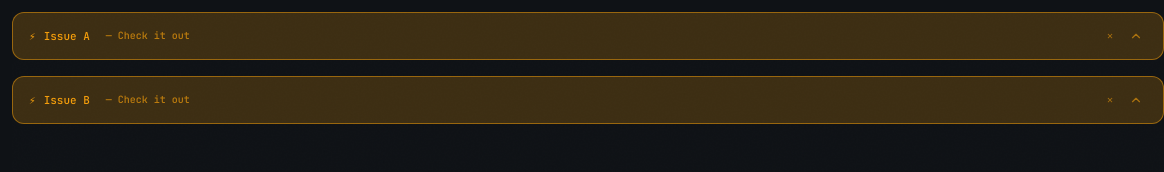
Test: SystemAlert snooze › snoozing hides only the snoozed issue
The image size is (1164, 172).
Expected: the text "Issue A" is shown, [44,28,90,44]
Expected: the text "Issue B" is shown, [44,92,90,108]
Click the button titled "Snooze for 24 hours" in the row of "Issue A" at (1110,36), box [1099,27,1121,45]
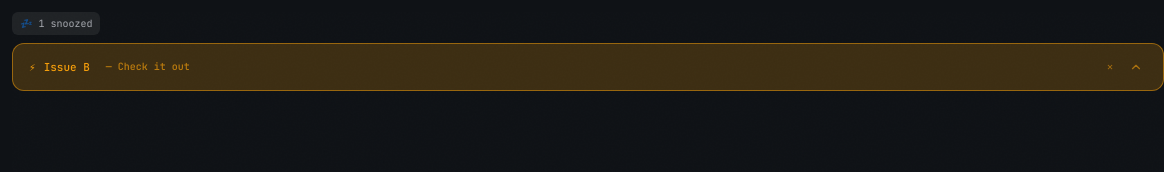
Expected: the text "Issue A" is gone
Expected: the text "Issue B" is shown, [44,59,90,75]
